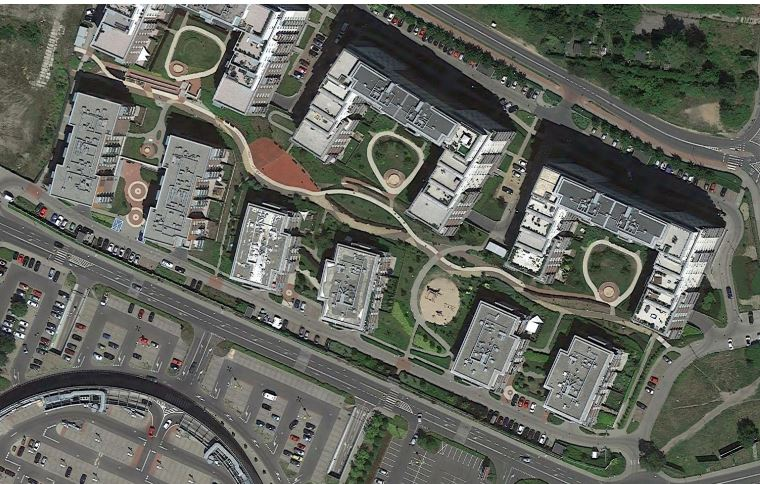block of flats: (289, 44, 518, 238), (502, 154, 727, 342), (89, 3, 312, 118), (135, 131, 234, 254), (44, 90, 143, 213), (540, 333, 628, 431), (447, 298, 531, 393), (315, 240, 399, 335), (220, 201, 304, 296)
